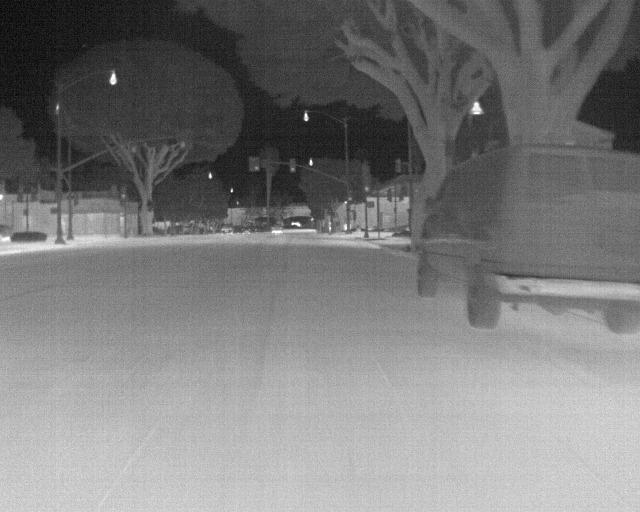car: (416, 142, 639, 334)
